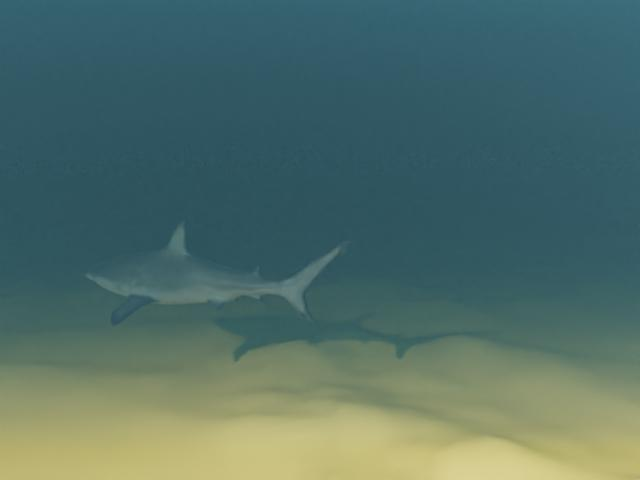Carribean Shark.001: (85, 220, 350, 325)
